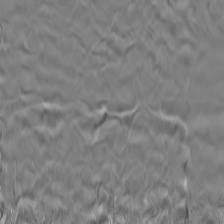cavities: (0, 114, 176, 219)
